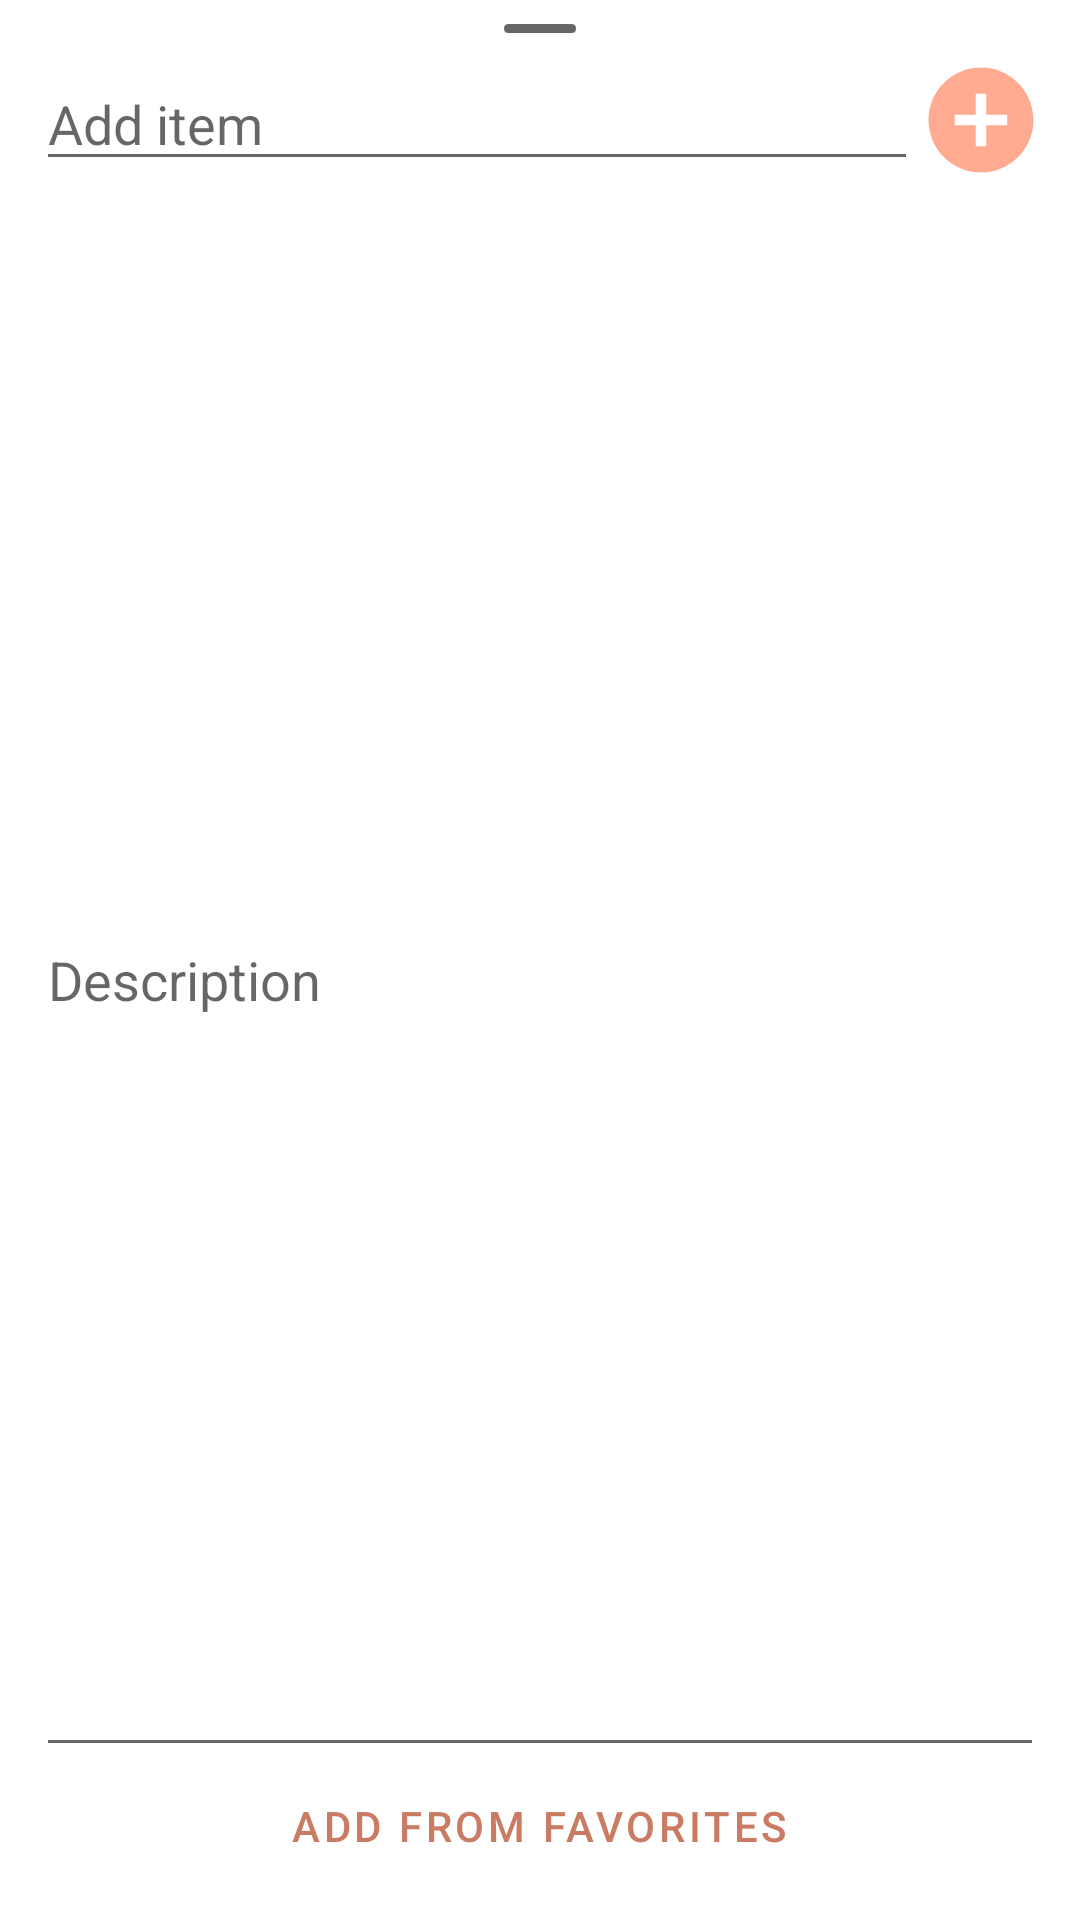

Icons on this 1080 × 1920 Android screen, each with its box as (x1,y1,x2,y2):
add circle: (928,67,1034,173)
